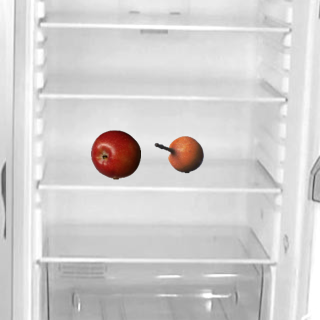Apple Braeburn: (90, 129, 140, 179)
Granadilla: (153, 129, 203, 179)
